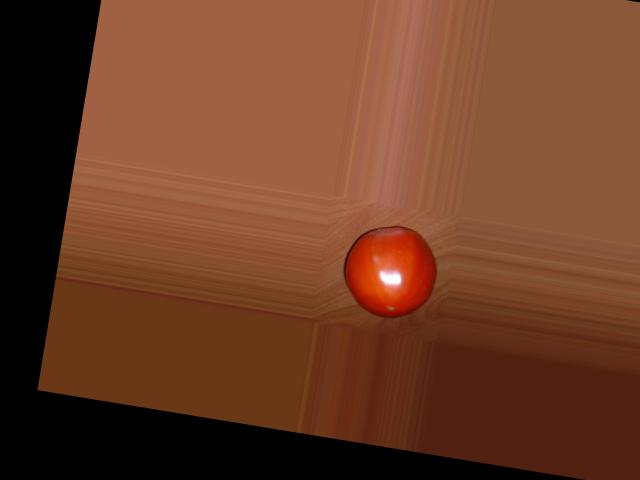tomato: (337, 219, 444, 325)
